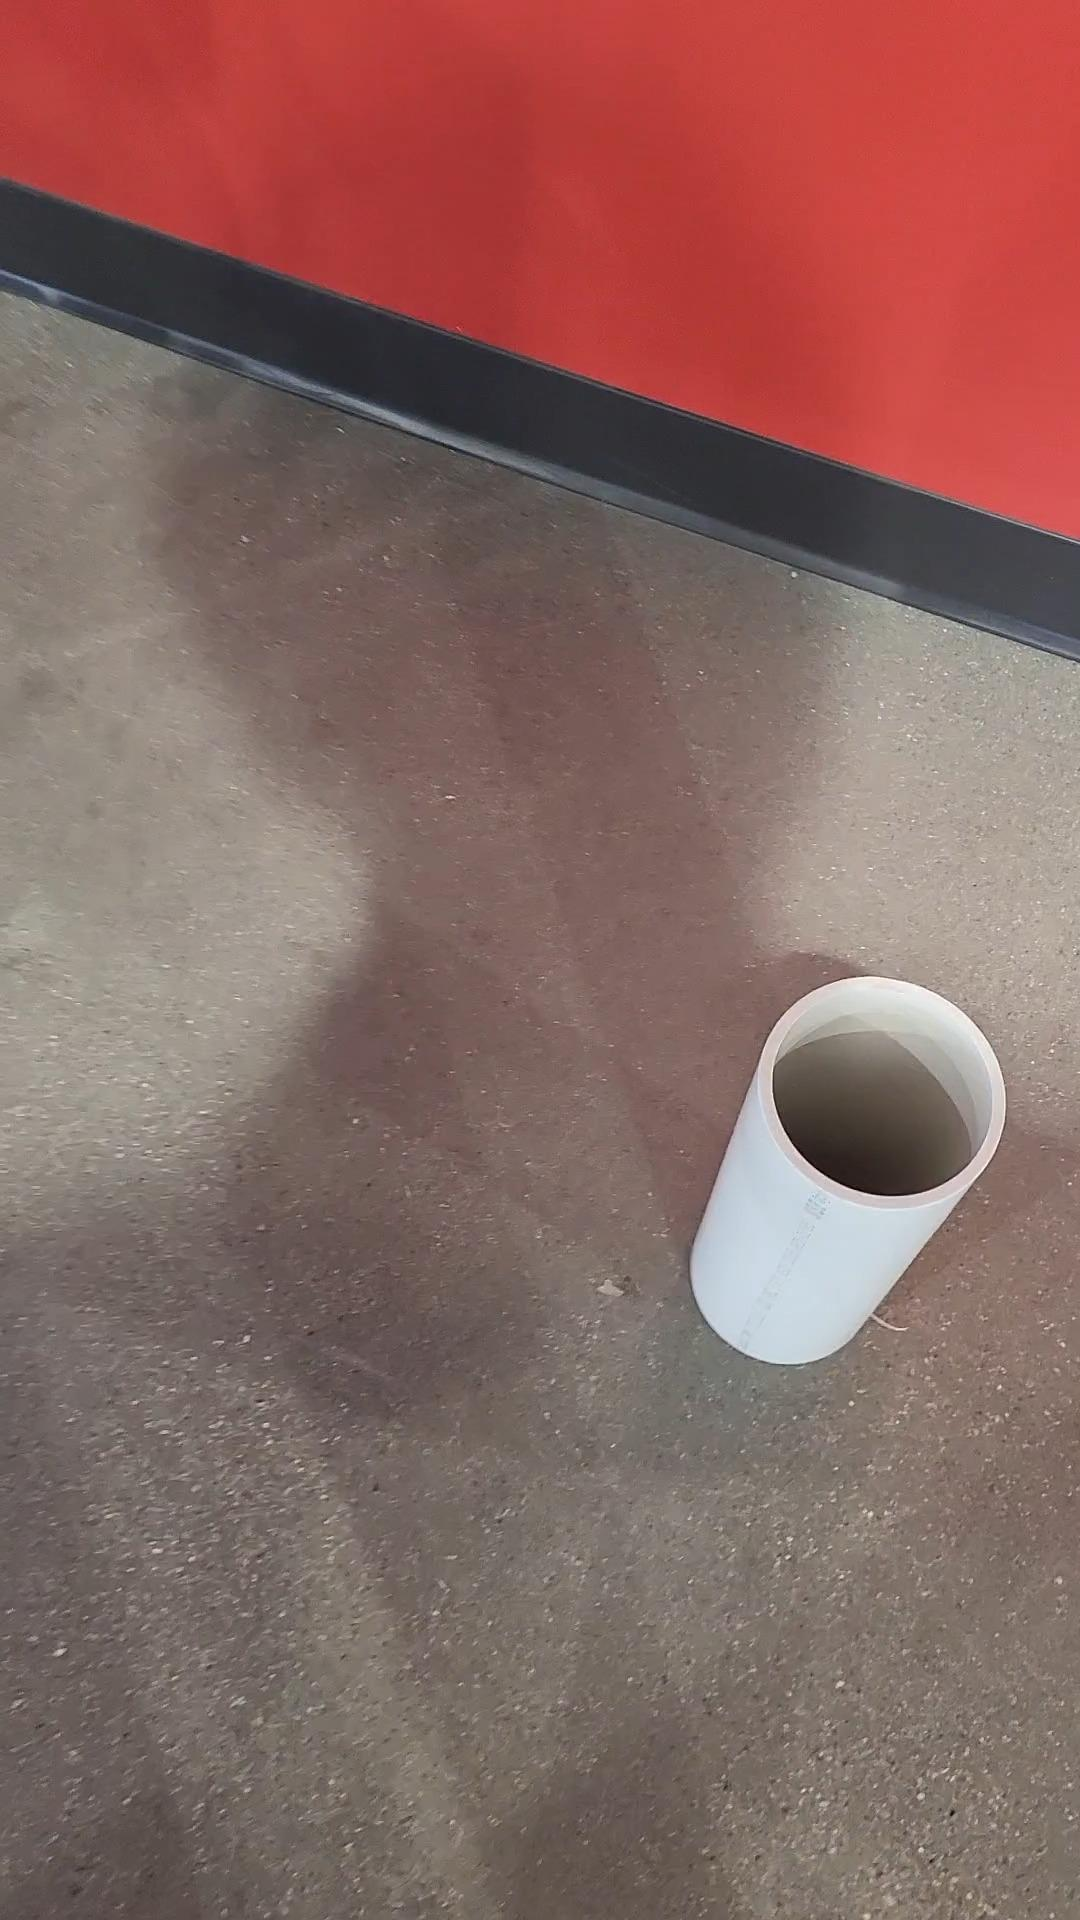coral: (695, 972, 1013, 1373)
